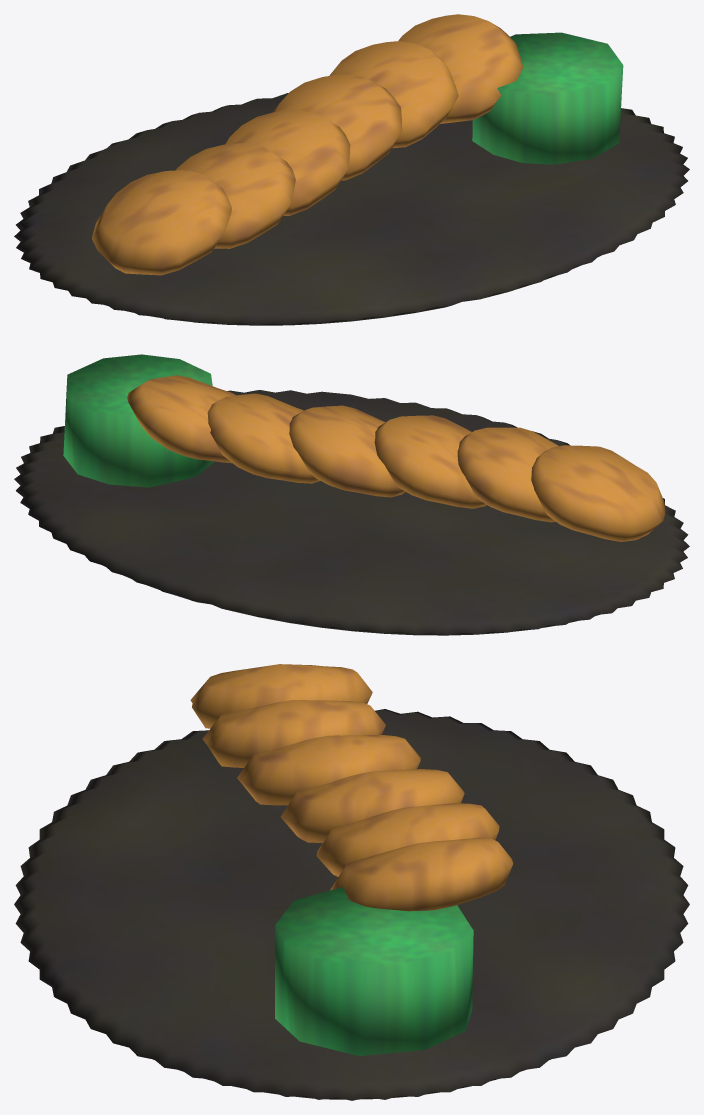
Rendered from dahi-ke-kebab-ultralight.glb.
3 renders of one model, top to bottom at view 1: azimuth 30°, elevation 25°; view 2: azimuth 150°, elevation 25°; view 3: azimuth 270°, elevation 25°, orthographic. The views are drawn at different scales.
Parts seen in each view (by area): view 1: Mesh_Oval_Tasting_Platter, Mesh_Dahi_Ke_Kebab_Medallions, Mesh_Mint_Chutney_Dip; view 2: Mesh_Oval_Tasting_Platter, Mesh_Dahi_Ke_Kebab_Medallions, Mesh_Mint_Chutney_Dip; view 3: Mesh_Oval_Tasting_Platter, Mesh_Dahi_Ke_Kebab_Medallions, Mesh_Mint_Chutney_Dip.
Part boxes in pixels (x1=…): Mesh_Oval_Tasting_Platter: x1=14, y1=93, x2=689, y2=325; Mesh_Dahi_Ke_Kebab_Medallions: x1=92, y1=14, x2=523, y2=275; Mesh_Mint_Chutney_Dip: x1=472, y1=32, x2=623, y2=164; Mesh_Oval_Tasting_Platter: x1=14, y1=390, x2=689, y2=635; Mesh_Dahi_Ke_Kebab_Medallions: x1=127, y1=375, x2=665, y2=541; Mesh_Mint_Chutney_Dip: x1=63, y1=354, x2=213, y2=487; Mesh_Oval_Tasting_Platter: x1=14, y1=709, x2=689, y2=1100; Mesh_Dahi_Ke_Kebab_Medallions: x1=190, y1=664, x2=513, y2=911; Mesh_Mint_Chutney_Dip: x1=275, y1=887, x2=473, y2=1055.
Bounding box in the file's own units: 2.2 × 0.4511 × 1.6.
3 materials, 3 textured.
